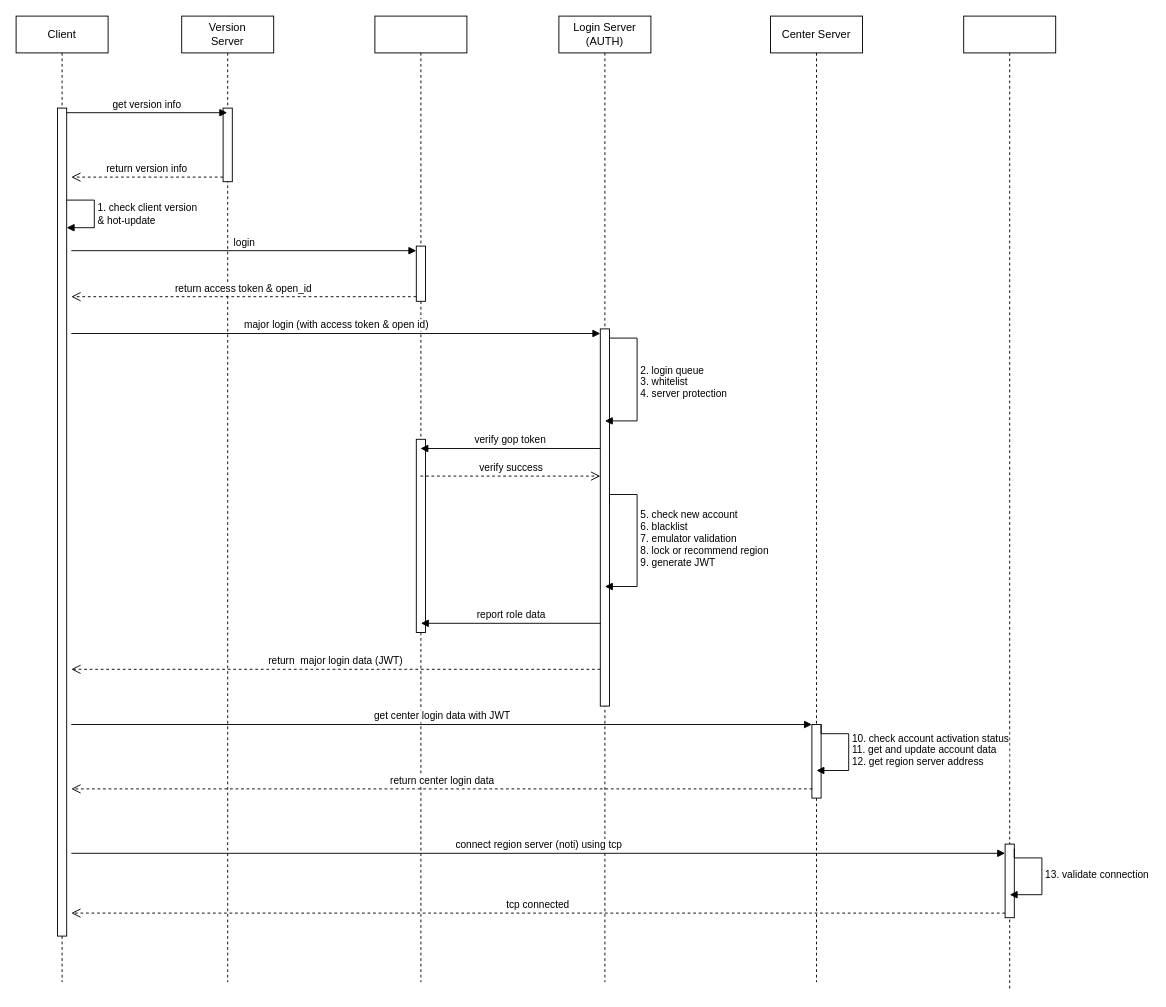
This 1166x1007 diagram has some shape labels left out. Here are the shapes that lost their labels. From the top down, the box of each, then its label:
(374, 15, 467, 982): GOP
(963, 15, 1056, 991): Region Server
